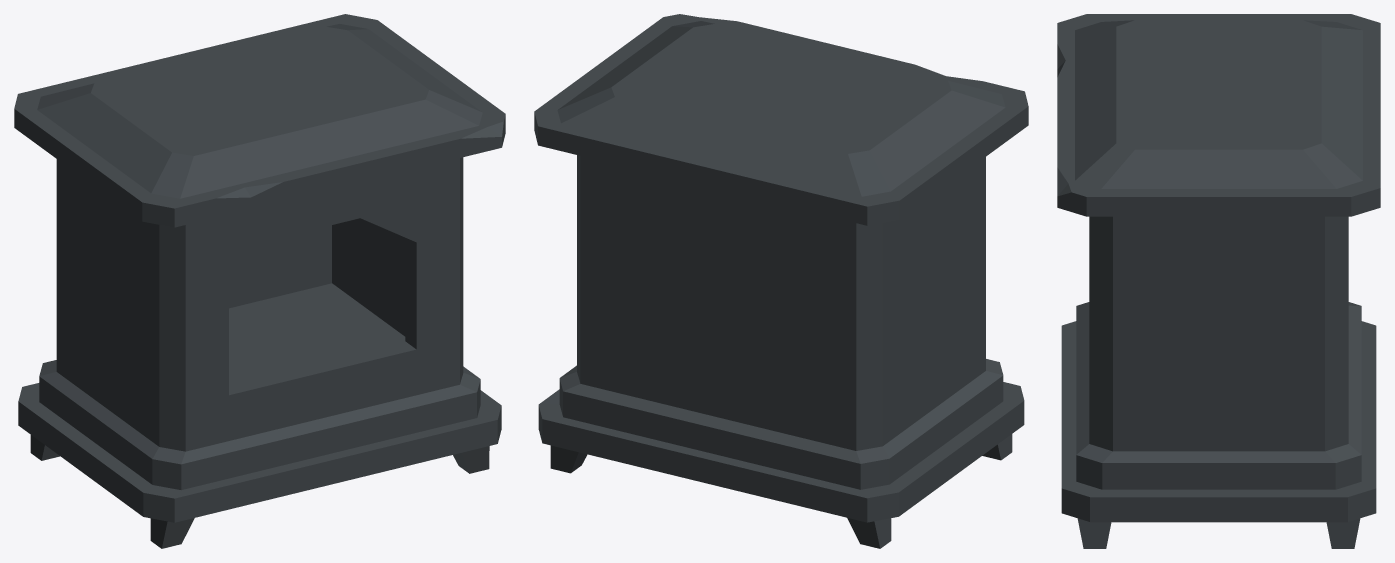
Rendered from SM_Prop_Fireplace_02.fbx.
The picture shows the model from 3 angles, left to right: view 1: azimuth 30°, elevation 25°; view 2: azimuth 150°, elevation 25°; view 3: azimuth 270°, elevation 25°; orthographic projection. The views are drawn at different scales.
Visible parts, largest first — view 1: SM_Prop_Fireplace_02; view 2: SM_Prop_Fireplace_02; view 3: SM_Prop_Fireplace_02.
Part boxes in pixels (box(x1,y1,x2,y2)): SM_Prop_Fireplace_02: box(14, 14, 505, 548); SM_Prop_Fireplace_02: box(534, 14, 1028, 548); SM_Prop_Fireplace_02: box(1057, 14, 1380, 548).
Bounding box in the file's own units: 99.97 × 97.17 × 74.63.
